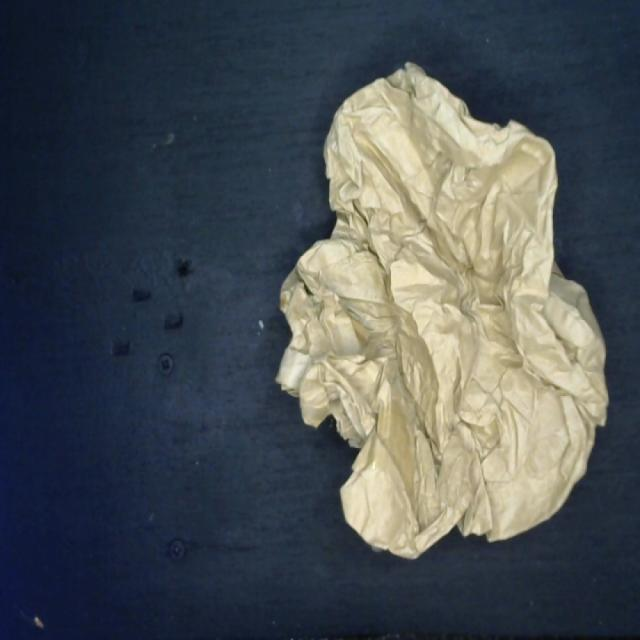biodegradable: (272, 56, 614, 565)
